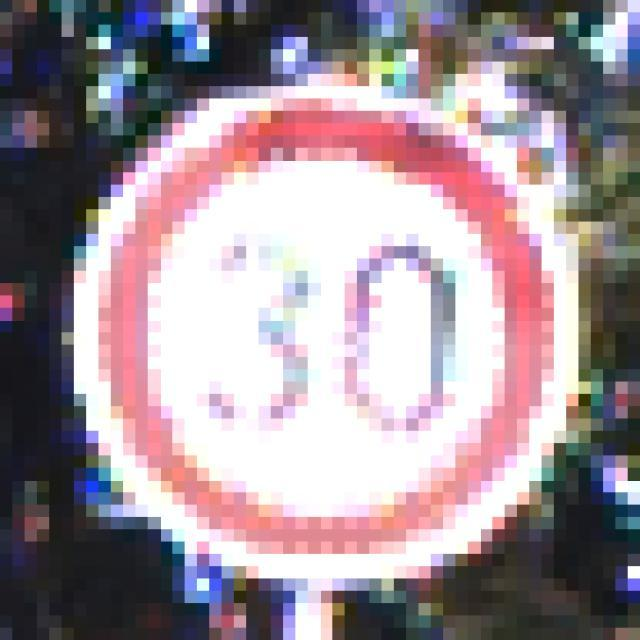Speed Limit -30-: (55, 55, 572, 560)
